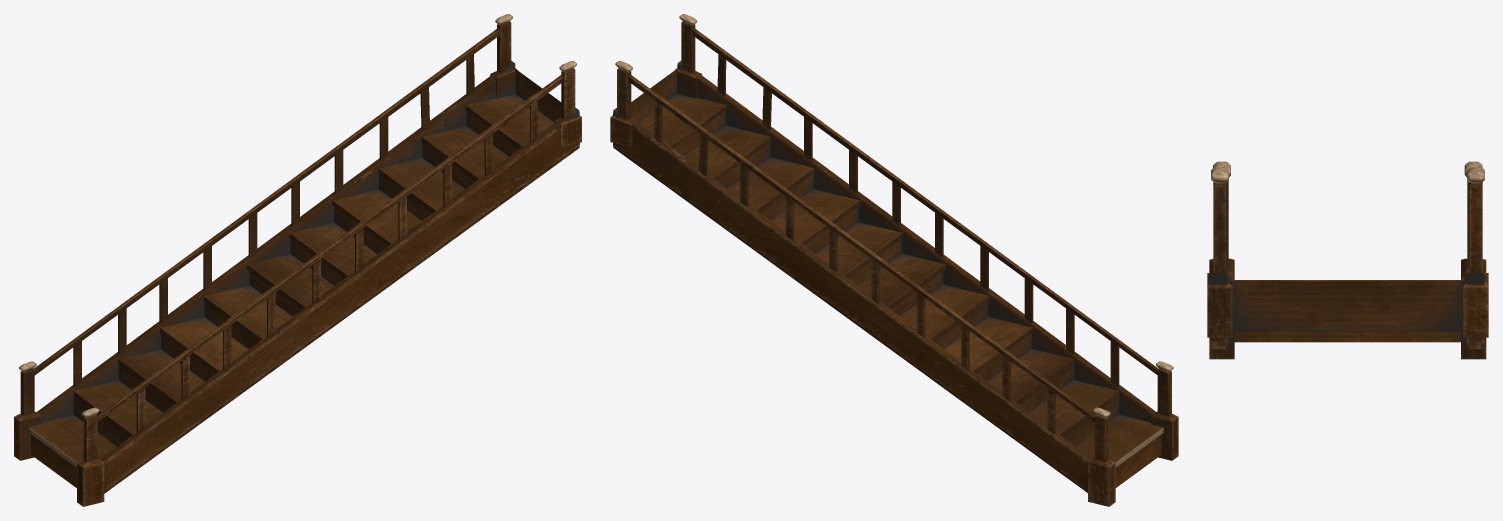
The model's file is wood-stairs.glb.
3 views of the same model, side by side, from view 1: azimuth 30°, elevation 25°; view 2: azimuth 150°, elevation 25°; view 3: azimuth 270°, elevation 25° (orthographic). The views are drawn at different scales.
Parts seen in each view (by area): view 1: WoodStairs; view 2: WoodStairs; view 3: WoodStairs.
Part boxes in pixels (x1,y1,x2,y2): WoodStairs: [14, 14, 581, 506]; WoodStairs: [610, 14, 1178, 506]; WoodStairs: [1207, 161, 1488, 359].
Bounding box in the file's own units: 7.35 × 4.56 × 1.8.
Materials: 1 (1 with a texture image).
